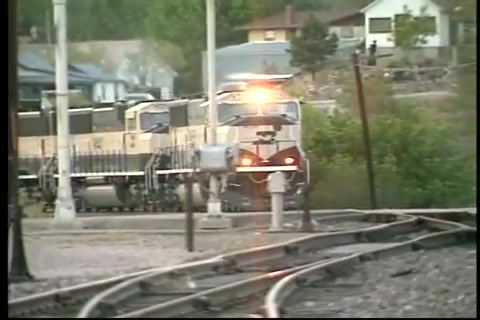train: (17, 81, 310, 214)
